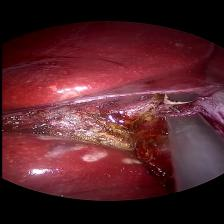Hook: (152, 94, 197, 117)
